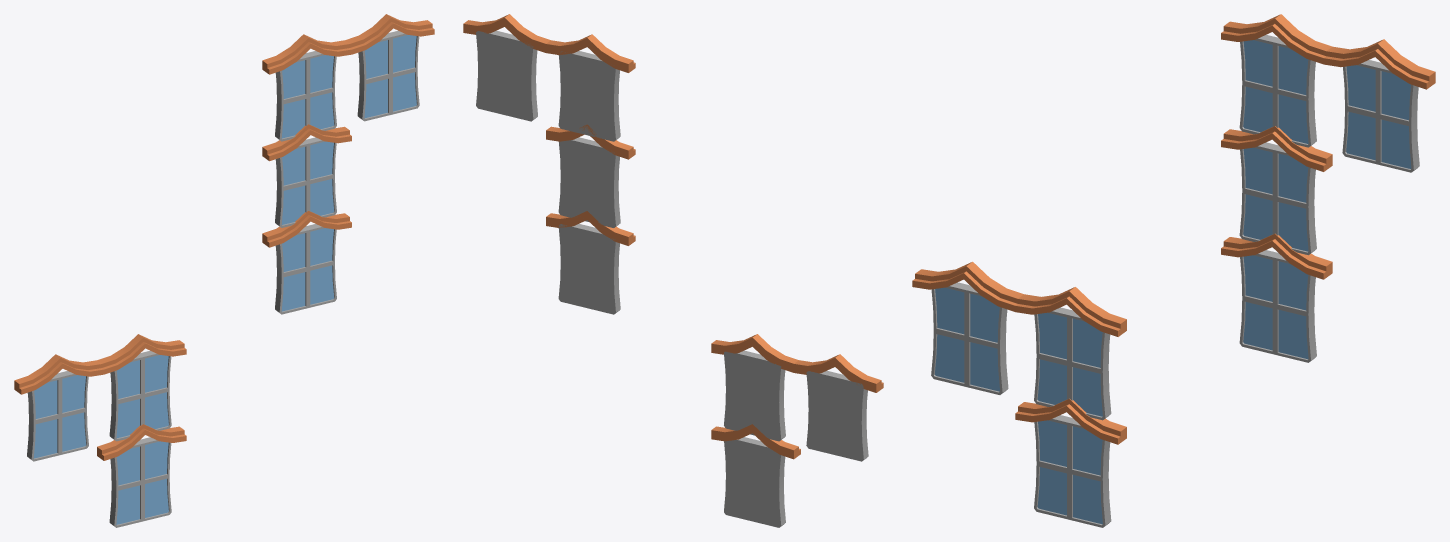
File: Test_tourtour.glb
3 renders of one model, left to right at view 1: azimuth 30°, elevation 25°; view 2: azimuth 150°, elevation 25°; view 3: azimuth 330°, elevation 25°, orthographic. The views are drawn at different scales.
Visible parts, largest first — view 1: Window (×7); view 2: Window (×7); view 3: Window (×7).
Boxes of the visible parts, x1,y1,x2,y2 form: Window (×7): [14, 14, 434, 527]; Window (×7): [463, 14, 883, 527]; Window (×7): [912, 14, 1435, 527].
Bounding box in the file's own units: 10 × 10.25 × 0.3.
